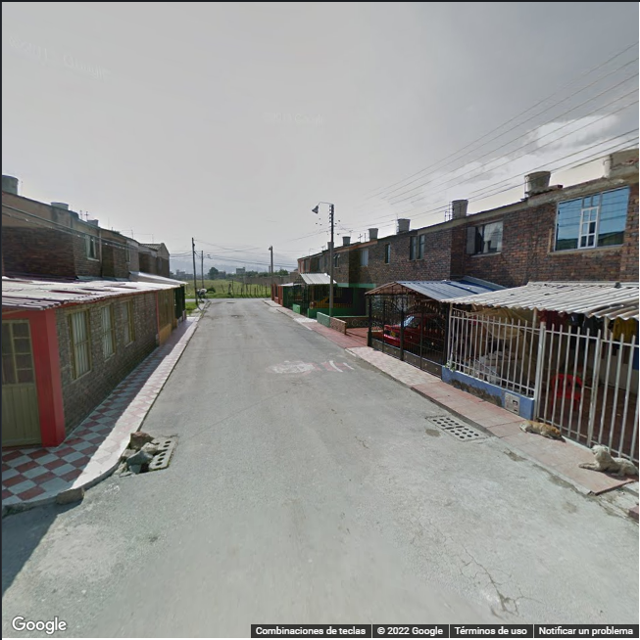D00: (399, 478, 449, 541), (459, 537, 500, 609)
